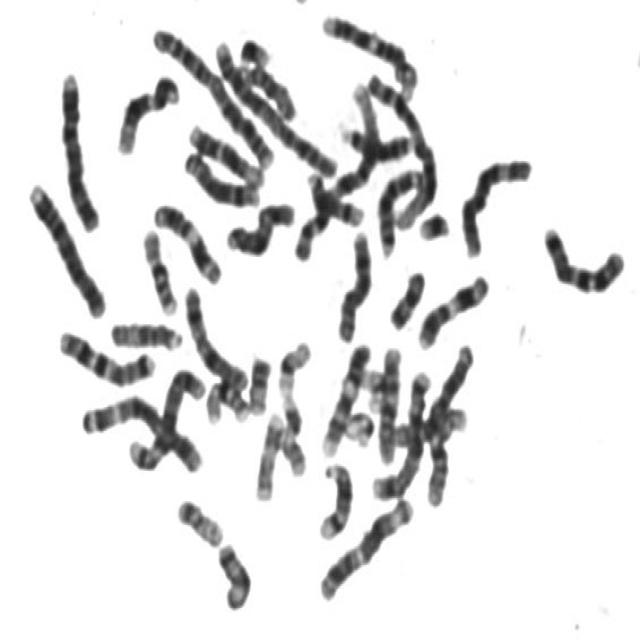A1: (286, 65, 383, 264), (360, 62, 442, 236)
A2: (145, 14, 278, 178), (206, 25, 340, 178)
A3: (312, 485, 417, 603), (74, 383, 204, 474)
B4: (20, 169, 109, 321), (53, 59, 103, 233)
B5: (364, 358, 433, 502), (123, 358, 208, 474)
C10: (381, 394, 469, 452), (372, 335, 404, 466)
C11: (146, 192, 224, 288), (410, 262, 492, 351)
C12: (110, 62, 182, 156), (182, 110, 268, 188)
C6: (420, 332, 477, 511), (454, 144, 535, 260)
C7: (536, 212, 629, 297), (51, 318, 157, 388)
C8: (176, 141, 264, 209), (329, 219, 375, 343)
C9: (316, 2, 420, 98), (314, 332, 374, 458)
D13: (373, 163, 428, 262), (333, 114, 412, 164)
D14: (299, 160, 365, 228), (311, 450, 355, 543)
D15: (233, 53, 298, 121), (103, 308, 185, 353)
E16: (134, 217, 180, 316), (199, 369, 251, 426)
E17: (248, 402, 285, 504), (274, 418, 308, 479)
E18: (210, 532, 253, 612), (382, 259, 429, 332)
F19: (270, 329, 314, 396), (338, 401, 378, 450)
F20: (170, 487, 226, 549), (240, 343, 274, 417)
G21: (232, 24, 272, 69), (412, 200, 452, 242)
G22: (358, 367, 392, 420), (279, 388, 301, 444)
X: (176, 273, 250, 393), (218, 190, 298, 258)
